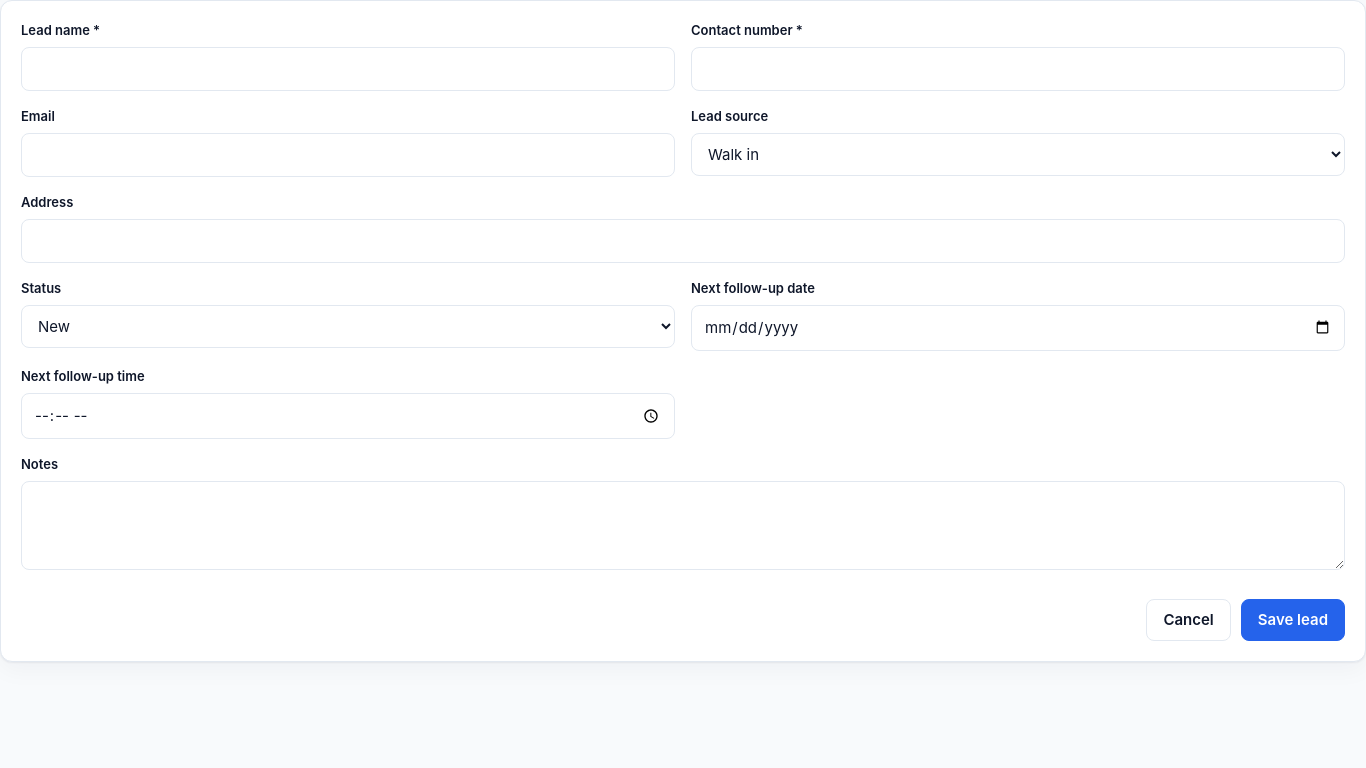
Scenario: LeadForm › shows required-field errors and does not submit when empty
Click the button "Save lead": (1293, 620) [1241, 598, 1345, 641]
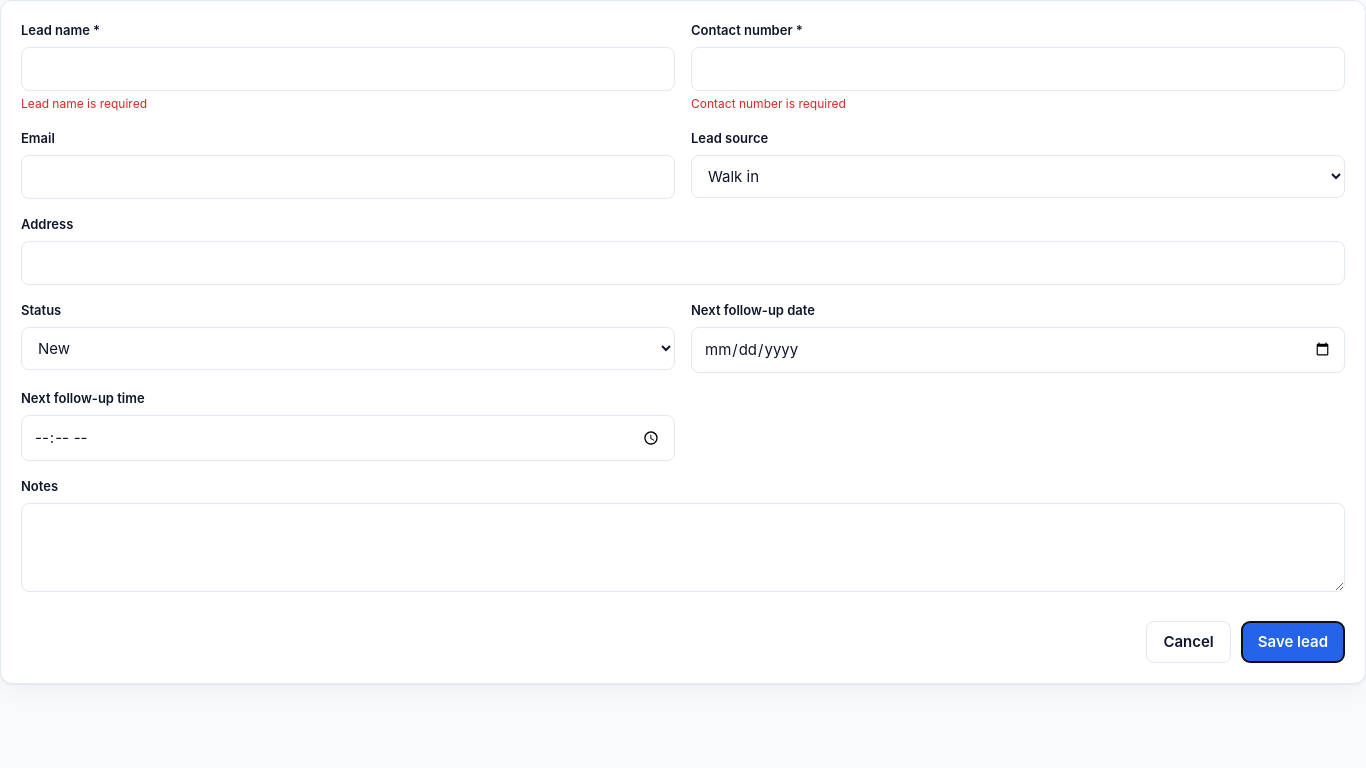
Result: the text "Lead name is required" is shown at [21, 96, 147, 111]
Result: the text "Contact number is required" is shown at [691, 96, 846, 111]
